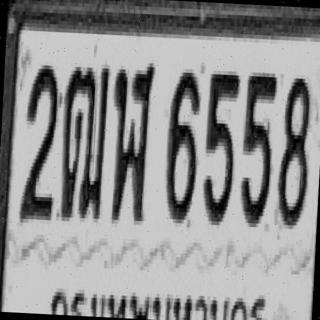A18: (58, 61, 110, 221)
A42: (108, 58, 155, 222)
N02: (19, 61, 60, 220)
N05: (200, 66, 240, 226), (238, 68, 277, 228)
N06: (163, 66, 202, 222)
N08: (276, 74, 313, 226)
